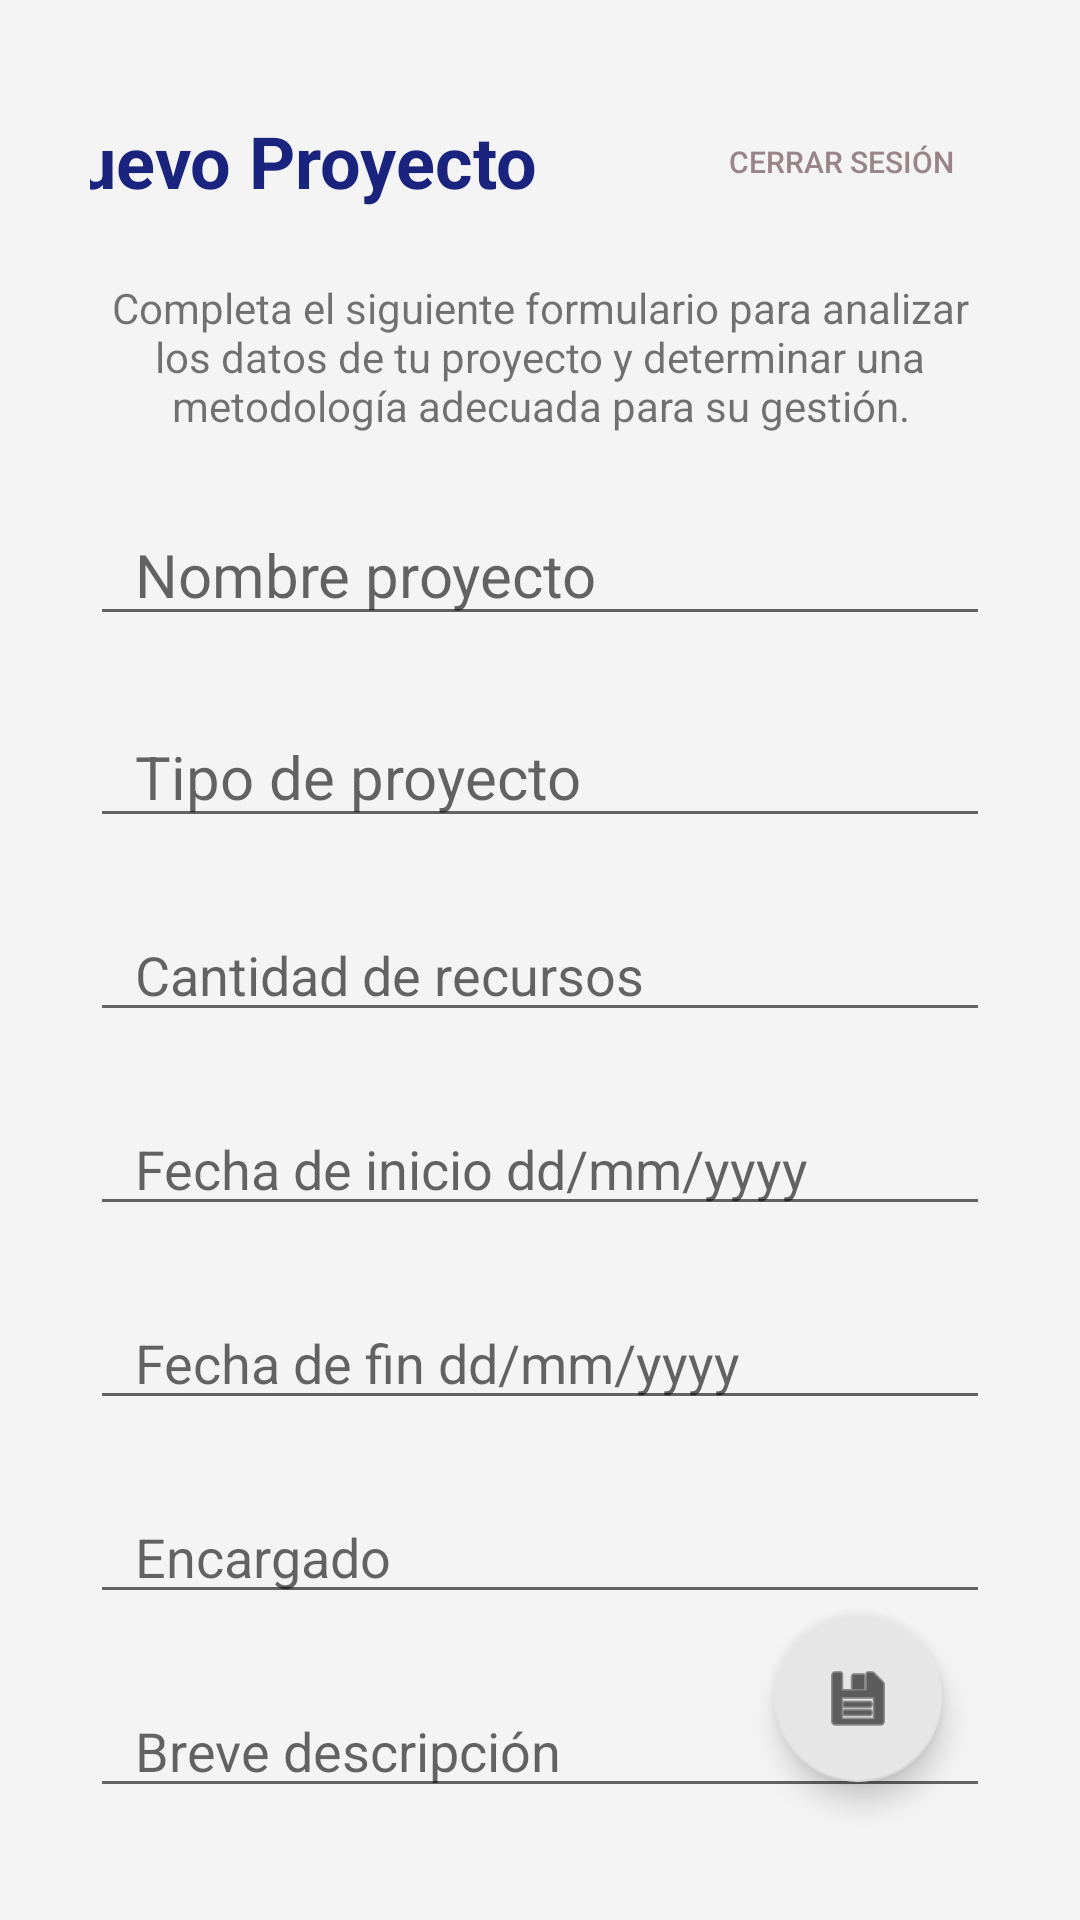

Where to tap for icons on this 1080×1920 app screen, as point (x, y):
save: point (858, 1698)
